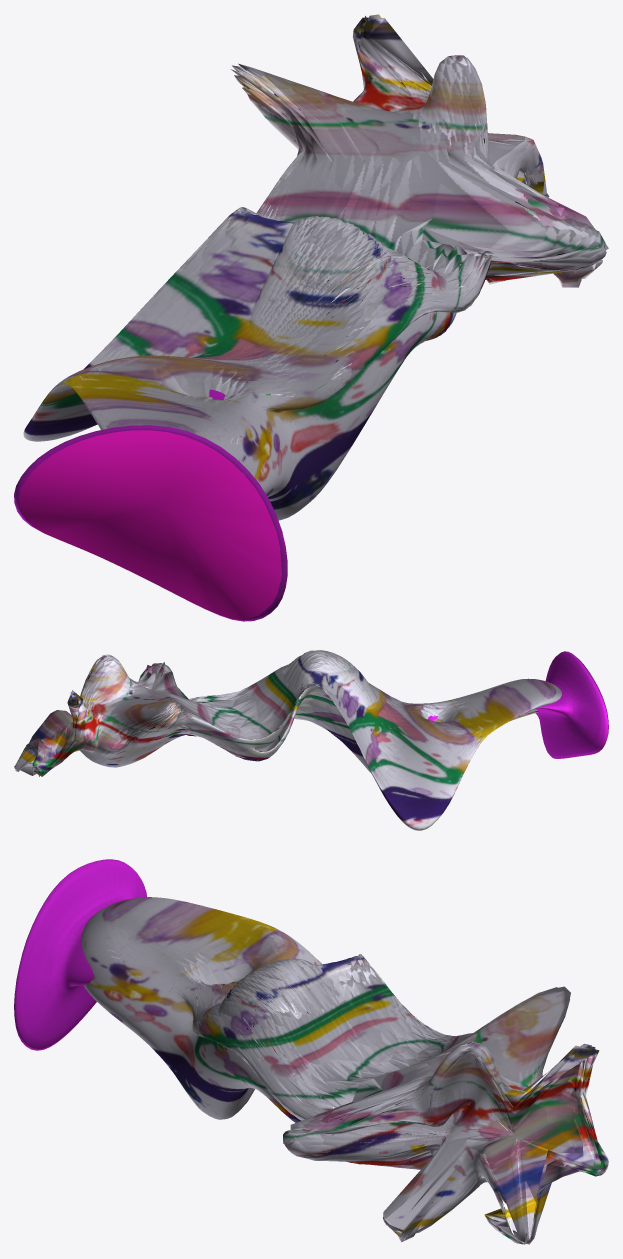
Rendered from excited_idea.glb.
3 views of the same model, one above another, from view 1: azimuth 30°, elevation 25°; view 2: azimuth 150°, elevation 25°; view 3: azimuth 270°, elevation 25° (orthographic). The views are drawn at different scales.
Parts seen in each view (by area): view 1: isemoexca; view 2: isemoexca; view 3: isemoexca.
Boxes of the visible parts, x1,y1,x2,y2 form: isemoexca: (14,14,608,621); isemoexca: (14,650,608,830); isemoexca: (14,859,608,1244).
Size of the model in its own units: 0.552 by 0.177 by 0.4655.
2 materials, 2 textured.
